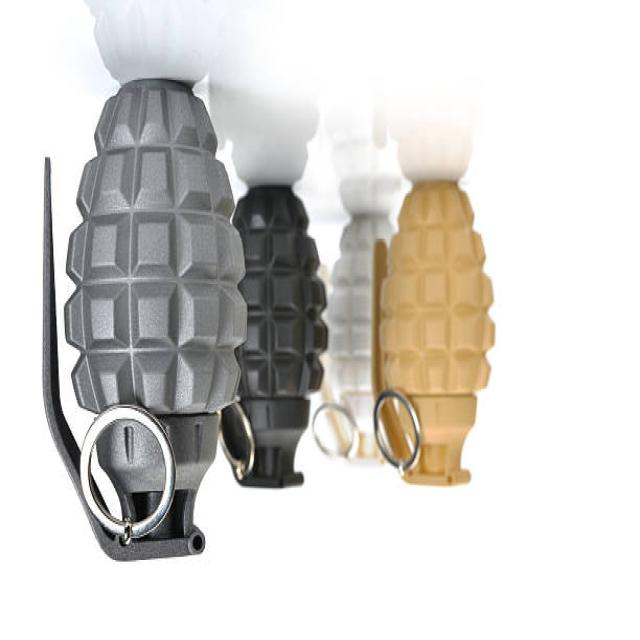grenade: (34, 75, 253, 571), (368, 176, 498, 493), (224, 176, 333, 496)
